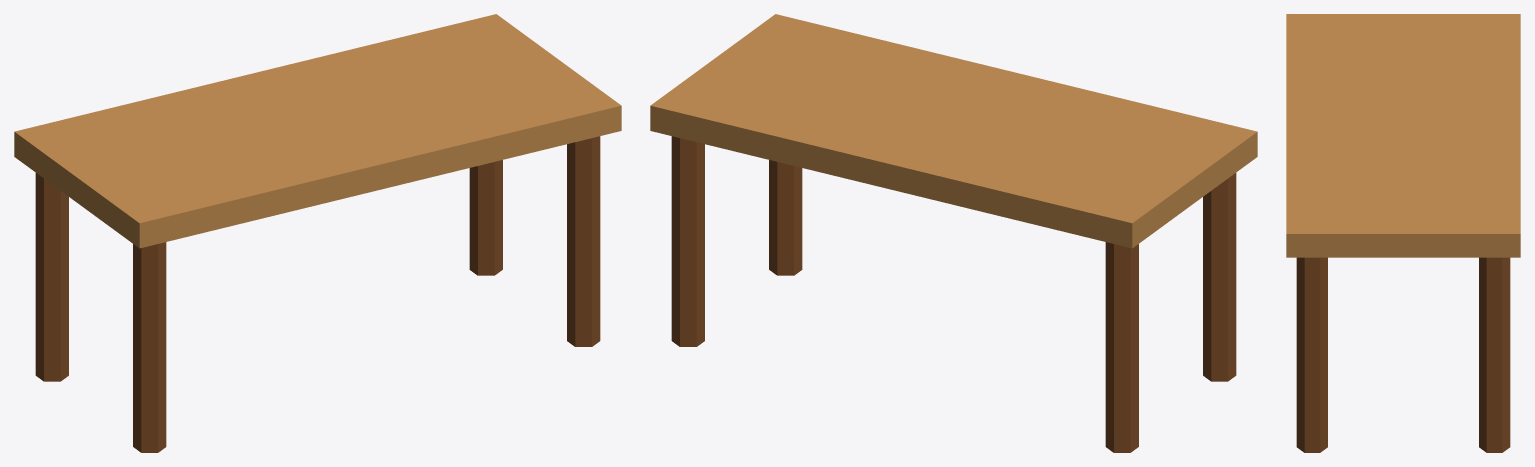
The model's file is alchemy_table.glb.
3 views of the same model, side by side, from view 1: azimuth 30°, elevation 25°; view 2: azimuth 150°, elevation 25°; view 3: azimuth 270°, elevation 25° (orthographic). The views are drawn at different scales.
Parts seen in each view (by area): view 1: alchemy_table; view 2: alchemy_table; view 3: alchemy_table.
Boxes of the visible parts, left/top/right/bottom form: alchemy_table: left=14, top=14, right=621, bottom=452; alchemy_table: left=650, top=14, right=1257, bottom=452; alchemy_table: left=1286, top=14, right=1520, bottom=452.
Size of the model in its own units: 2 by 0.95 by 0.9.
